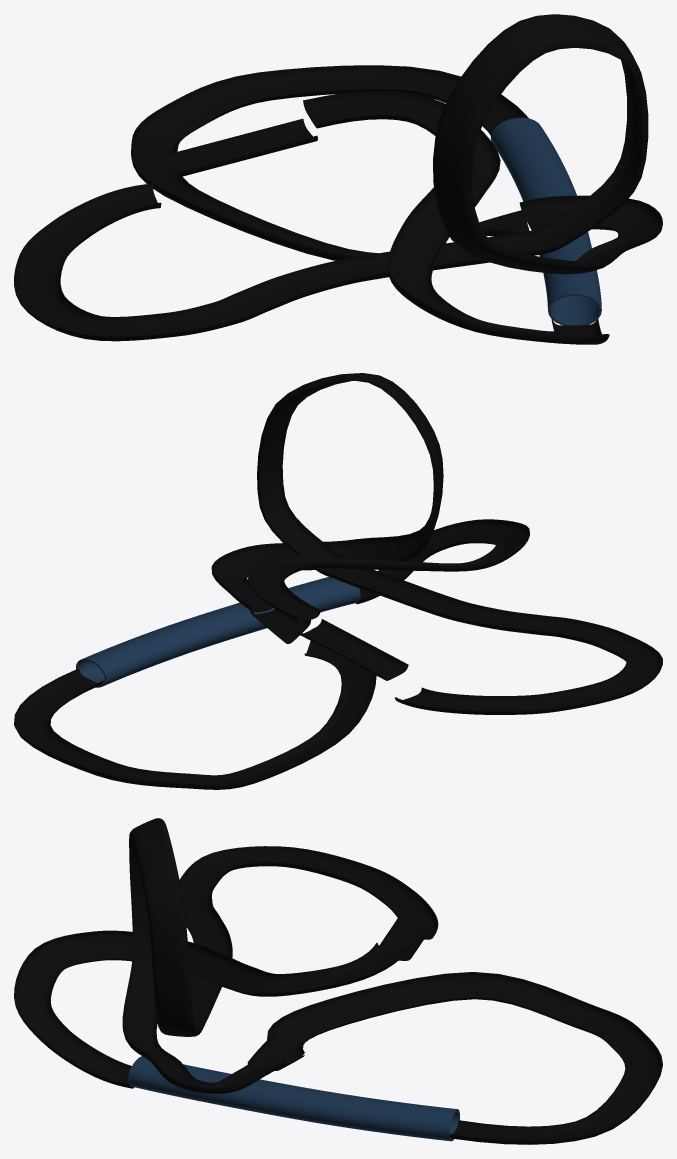
File: Track2.FBX
The picture shows the model from 3 angles, top to bottom: view 1: azimuth 30°, elevation 25°; view 2: azimuth 150°, elevation 25°; view 3: azimuth 270°, elevation 25°; orthographic projection. The views are drawn at different scales.
Visible parts, largest first — view 1: Loft001, Loft003, Loft005, Loft004, Loft006, Loft002; view 2: Loft001, Loft003, Loft005, Loft004, Loft006, Loft002; view 3: Loft001, Loft003, Loft005, Loft004, Loft006, Loft002.
Part boxes in pixels (left/top/right/bottom): Loft001: left=14, top=14, right=662, bottom=341; Loft003: left=131, top=65, right=528, bottom=260; Loft005: left=303, top=91, right=609, bottom=344; Loft004: left=490, top=117, right=601, bottom=325; Loft006: left=163, top=118, right=317, bottom=177; Loft002: left=479, top=210, right=529, bottom=236; Loft001: left=211, top=373, right=662, bottom=714; Loft003: left=14, top=628, right=376, bottom=789; Loft005: left=248, top=519, right=529, bottom=622; Loft004: left=76, top=577, right=360, bottom=687; Loft006: left=298, top=619, right=408, bottom=680; Loft002: left=250, top=609, right=310, bottom=643; Loft001: left=122, top=818, right=438, bottom=1093; Loft003: left=267, top=972, right=662, bottom=1144; Loft005: left=14, top=930, right=413, bottom=1088; Loft004: left=128, top=1056, right=459, bottom=1141; Loft006: left=379, top=915, right=436, bottom=960; Loft002: left=247, top=1033, right=304, bottom=1070.
Size of the model in its own units: 1671 by 773 by 1834.
